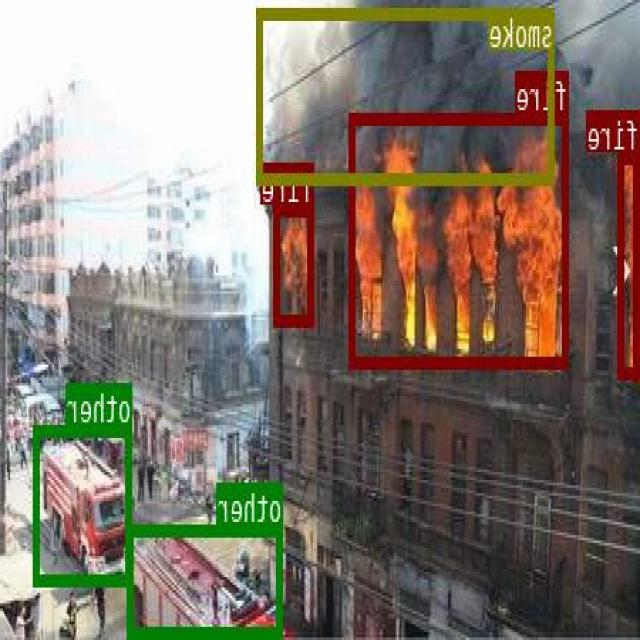fire: (350, 110, 570, 366), (275, 202, 315, 322), (620, 150, 640, 375)
other: (130, 523, 284, 635), (36, 424, 132, 584)
smoke: (258, 7, 555, 183)
